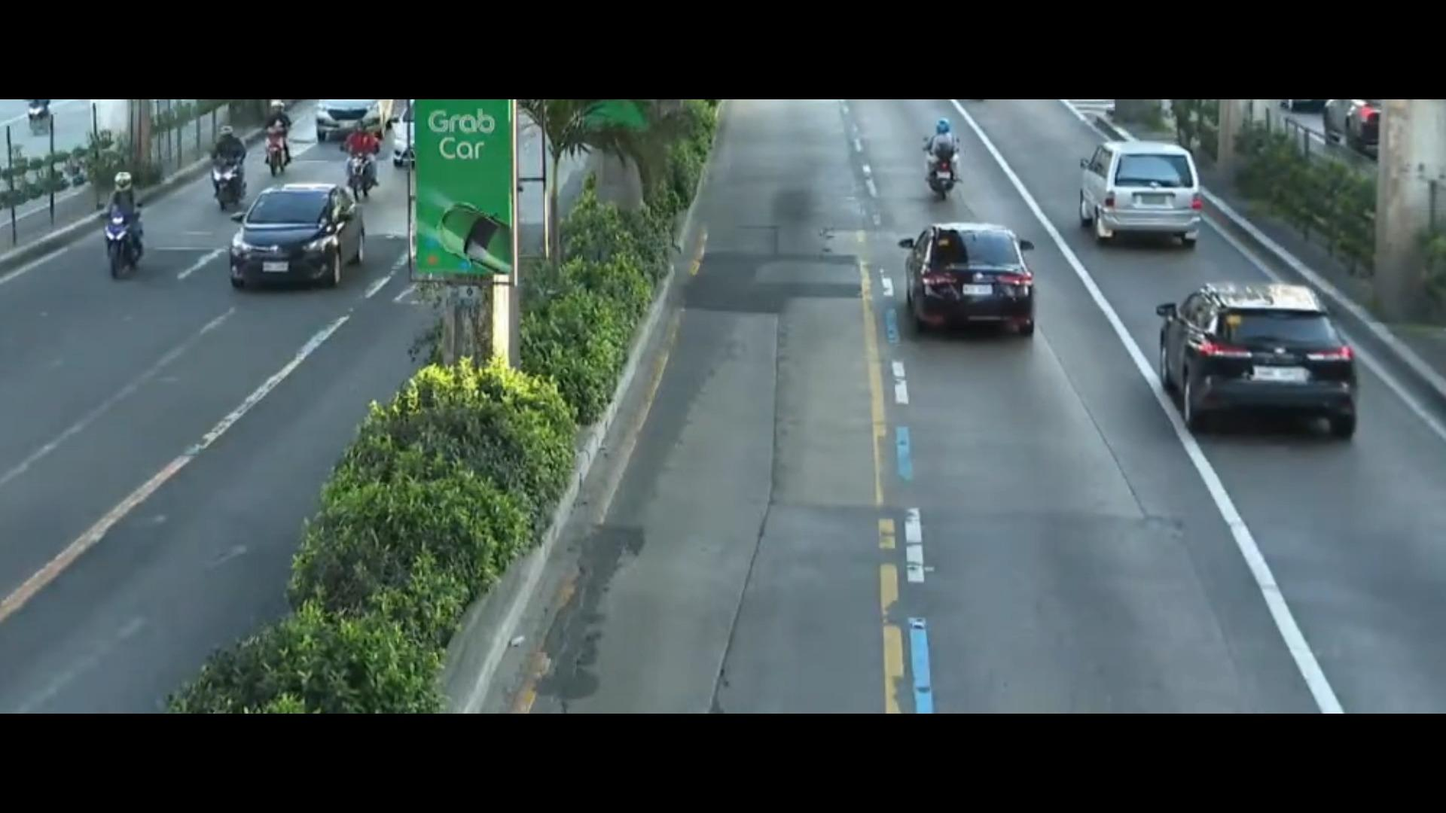Motorcycle: (87, 166, 174, 292), (899, 103, 980, 208), (196, 116, 244, 224), (256, 98, 299, 188), (349, 111, 378, 198)
SUV: (1146, 259, 1369, 474), (1058, 123, 1226, 262)
Sedan: (867, 219, 1065, 366), (210, 174, 382, 318)
